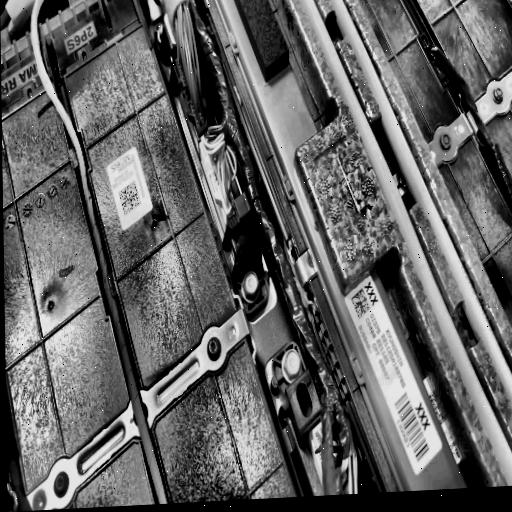busbar: (216, 0, 467, 492)
high_volt_cable: (301, 0, 512, 486), (1, 0, 176, 504), (331, 0, 512, 414)
low_volt_cable: (190, 2, 363, 494)
nut: (282, 346, 303, 381), (242, 267, 260, 300), (52, 471, 70, 497), (490, 82, 506, 107), (207, 336, 221, 362), (439, 129, 454, 151)
